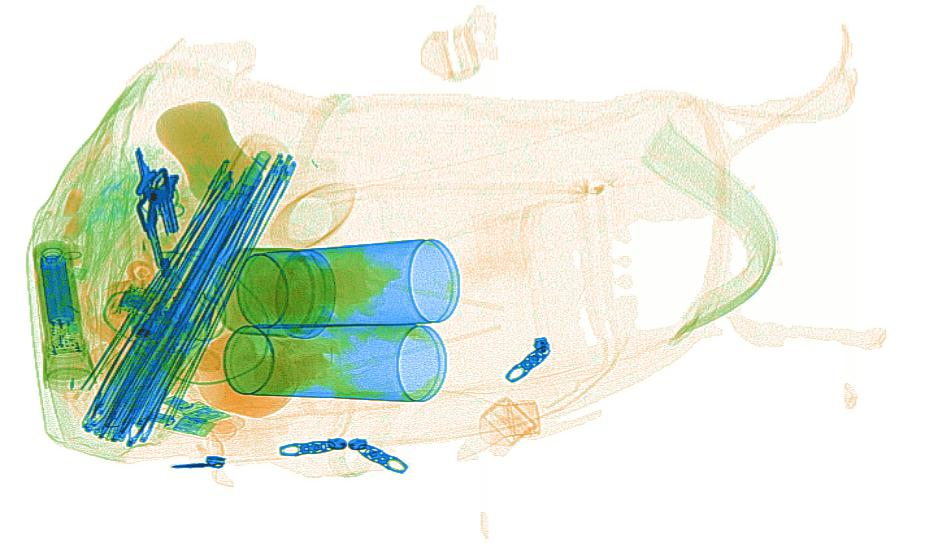USBFlashDisk: (146, 407, 217, 439), (163, 390, 226, 426)
battery: (38, 248, 75, 325)
